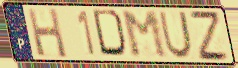1: (76, 10, 98, 59)
D: (90, 8, 130, 60)
H: (26, 6, 70, 60)
M: (119, 10, 170, 60)
U: (157, 11, 194, 61)
Z: (187, 8, 231, 62)
